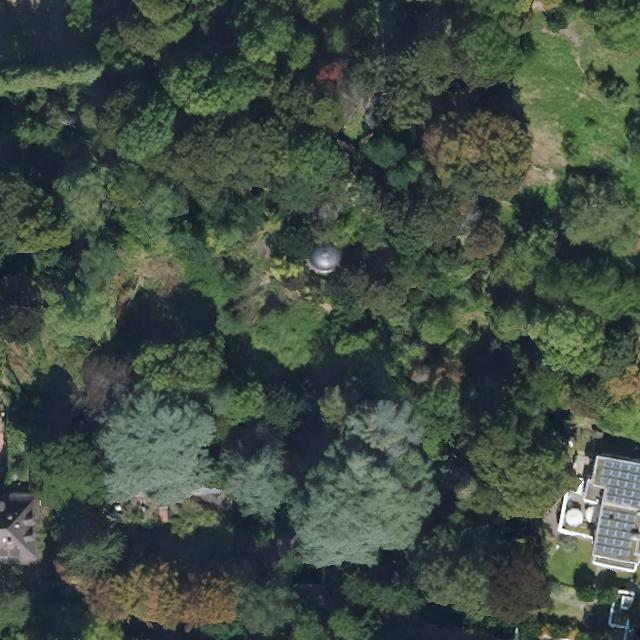PV: (593, 507, 639, 559), (598, 459, 639, 510)
